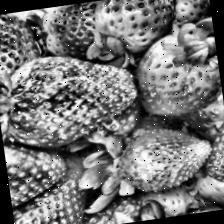Powdery Mildew Fruit: (0, 45, 144, 155), (112, 122, 218, 196), (3, 132, 70, 208)
